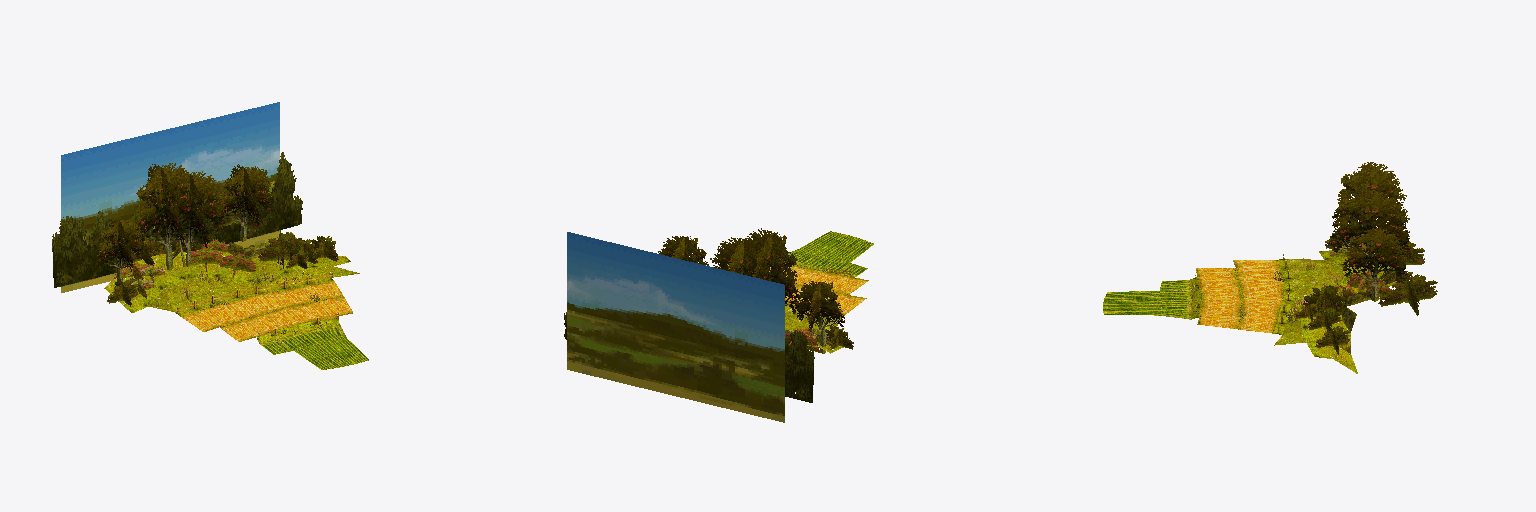
The picture shows the model from 3 angles: view 1: azimuth 30°, elevation 25°; view 2: azimuth 150°, elevation 25°; view 3: azimuth 270°, elevation 25°; orthographic projection.
Visible parts, largest first — view 1: YellowBrickRoad; view 2: YellowBrickRoad; view 3: YellowBrickRoad.
Part boxes in pixels (x1,y1,x2,y2): YellowBrickRoad: (52, 102, 368, 369); YellowBrickRoad: (564, 228, 873, 422); YellowBrickRoad: (1103, 162, 1437, 373).
Size of the model in its own units: 23.69 by 13.7 by 28.84.
4 materials, 4 textured.